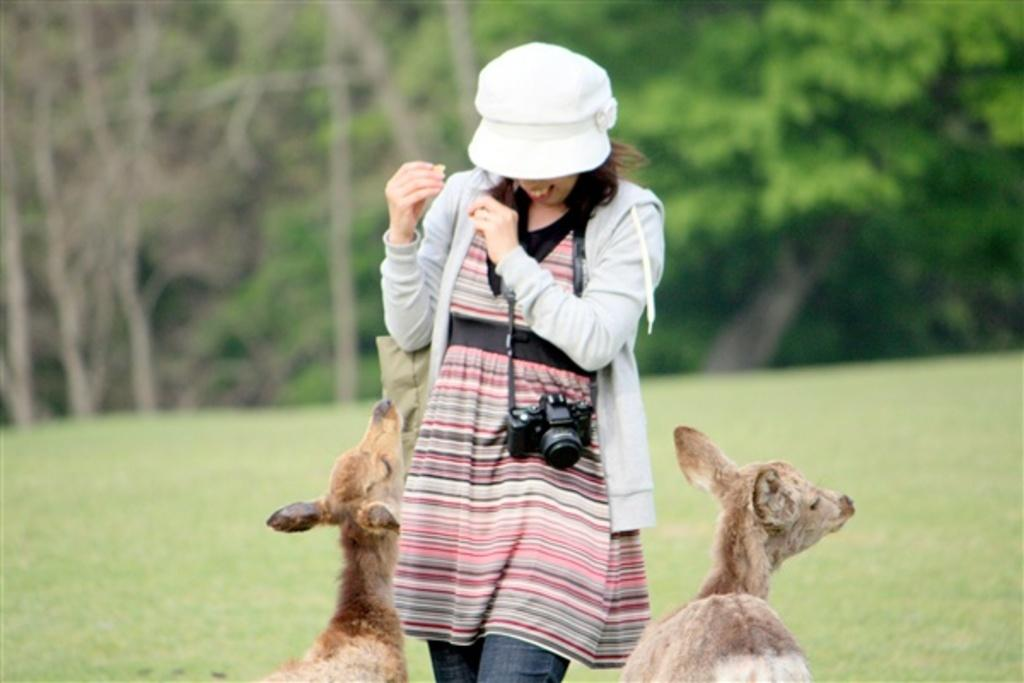Hat: (463, 40, 617, 174)
